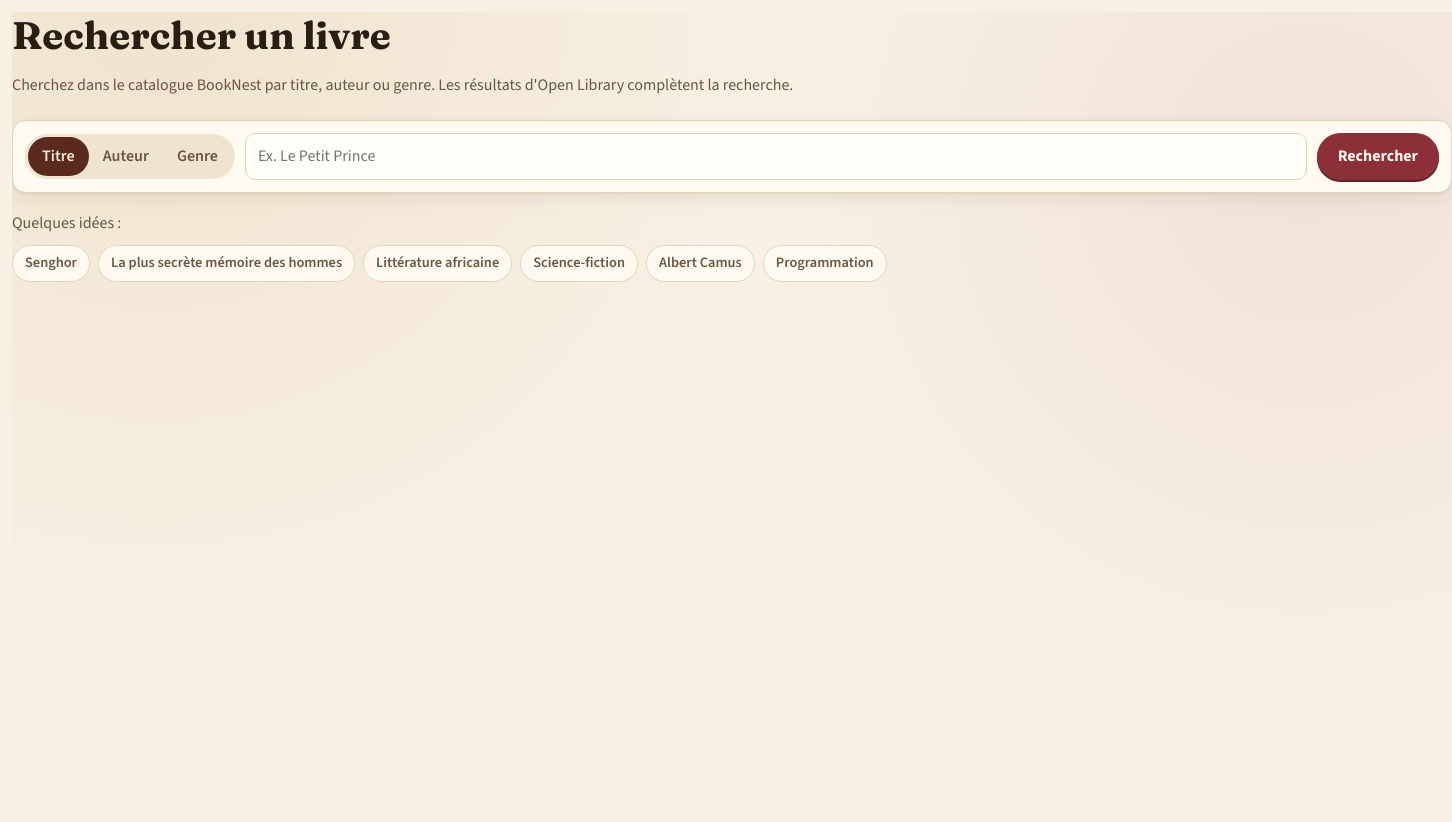
Scenario: SearchPage › recherche par auteur : catalogue BookNest en tête puis résultats Open Library
The width and height of the screenshot is (1452, 822).
Click the radio button labelled "Auteur". click: (126, 157)
box: [89, 137, 163, 176]
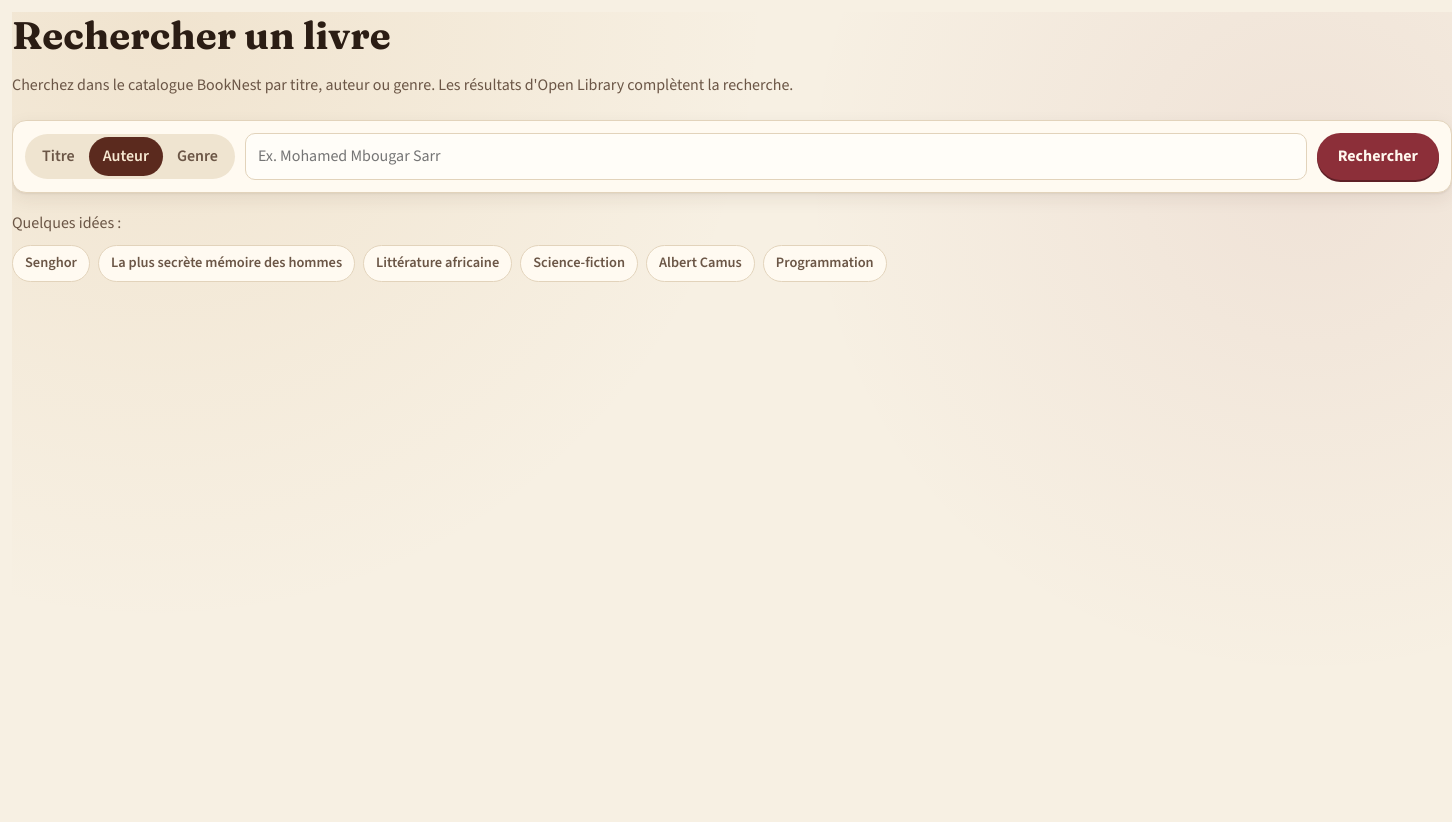
Type "Mariama Bâ" into the field named "Recherche". click: (776, 157)
box: [245, 133, 1307, 180]
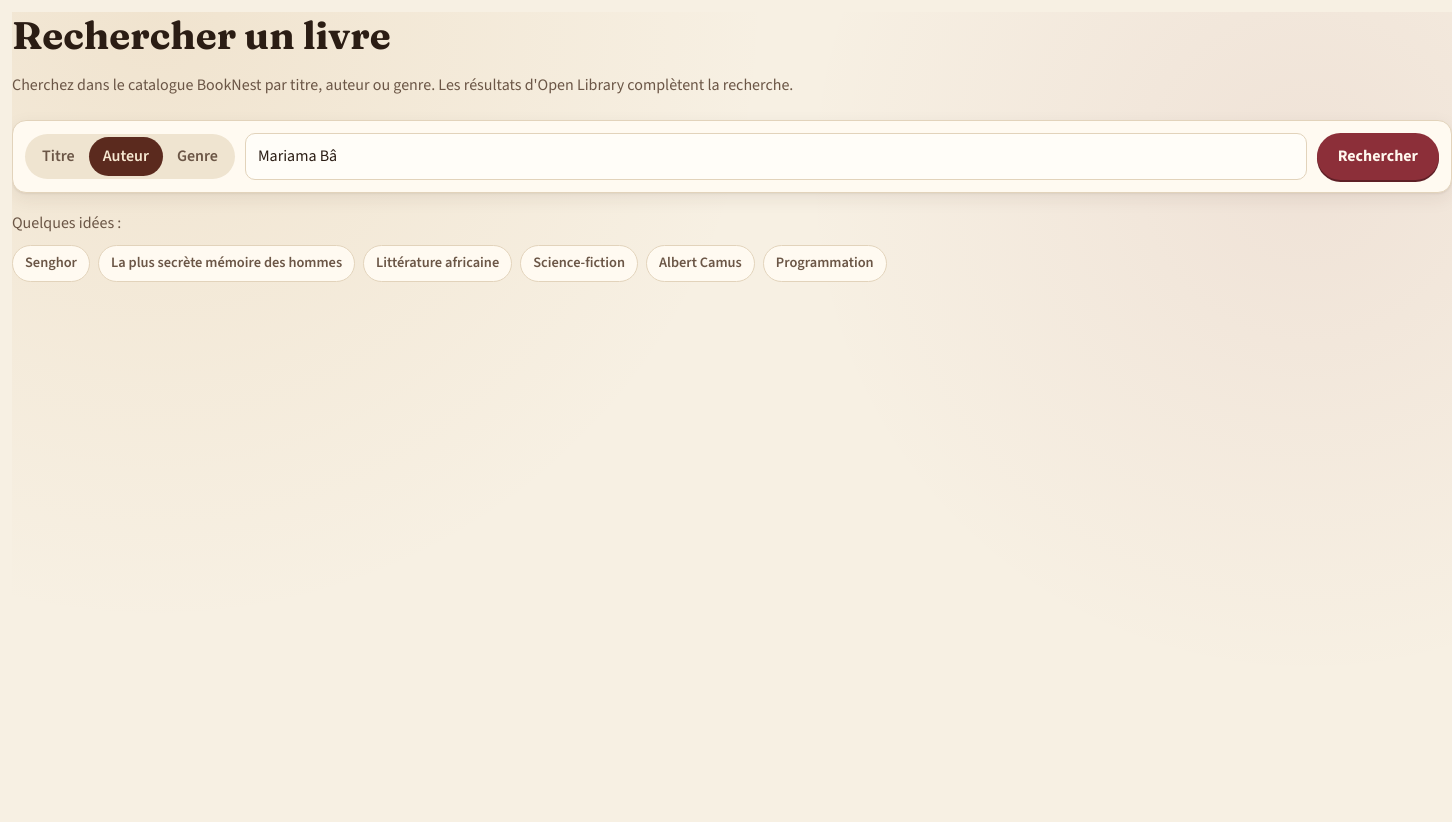
Click the button "Rechercher". click: (1378, 157)
box: [1317, 133, 1439, 180]
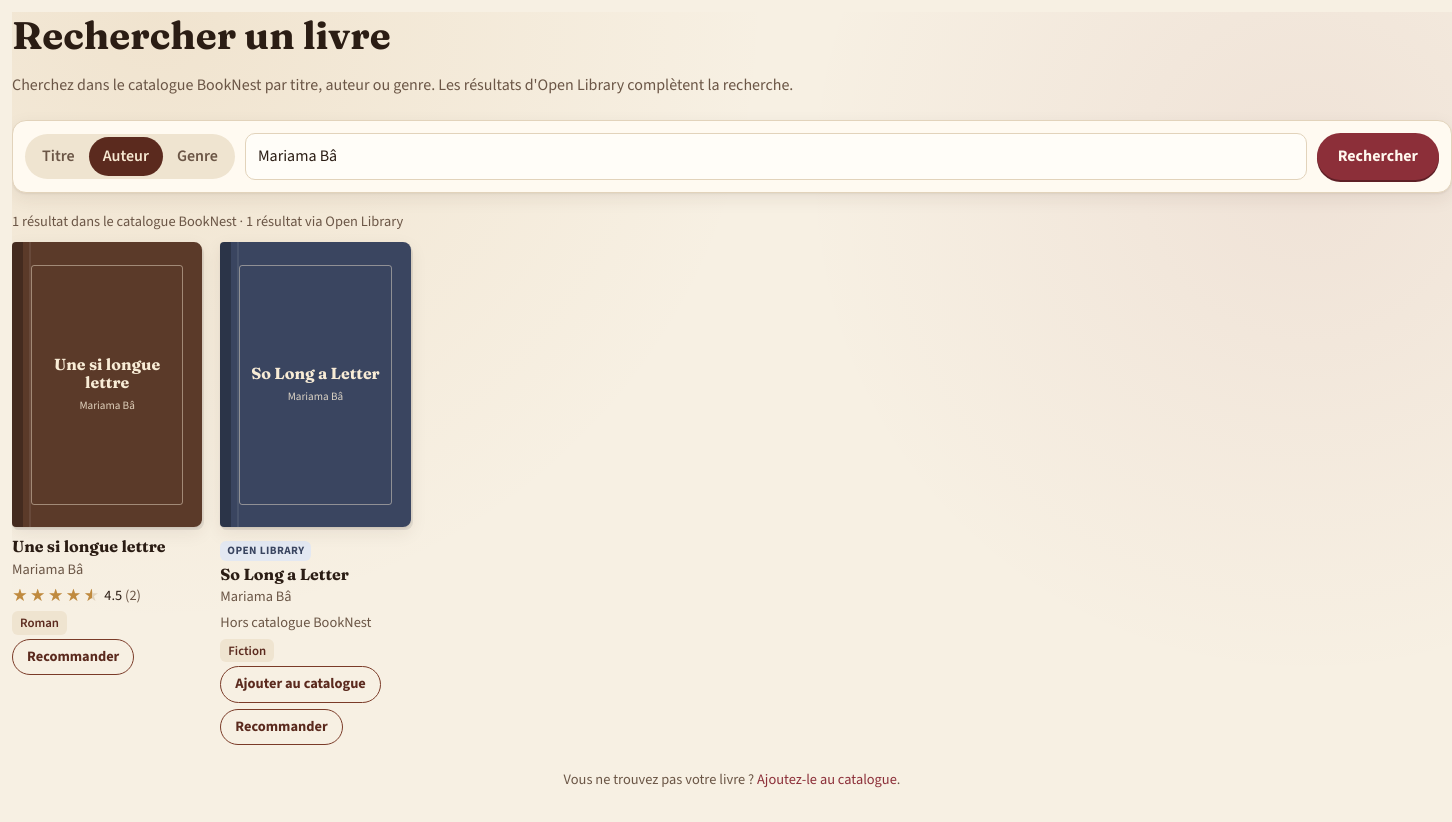
Now the heading "So Long a Letter" is shown, box [220, 564, 349, 584]
Now the text "Open Library" is shown, box [220, 541, 312, 561]
Now the number of buttons "Ajouter au catalogue" is 1, box [220, 666, 381, 703]
